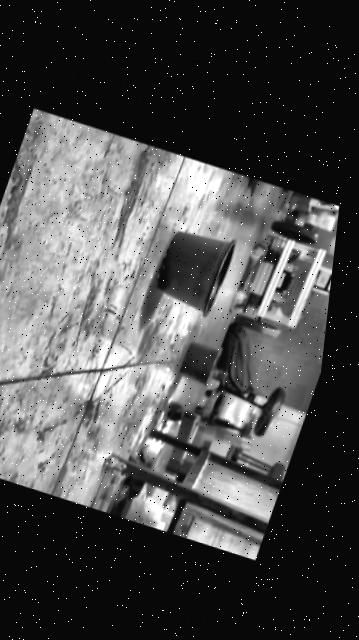pot: (148, 222, 239, 320), (176, 341, 221, 388)
